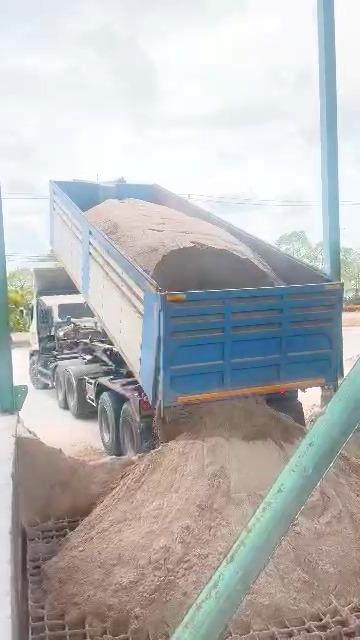sand: (47, 395, 304, 639), (229, 454, 360, 636), (86, 199, 282, 290), (15, 428, 131, 524), (344, 427, 360, 461), (306, 404, 325, 428)
